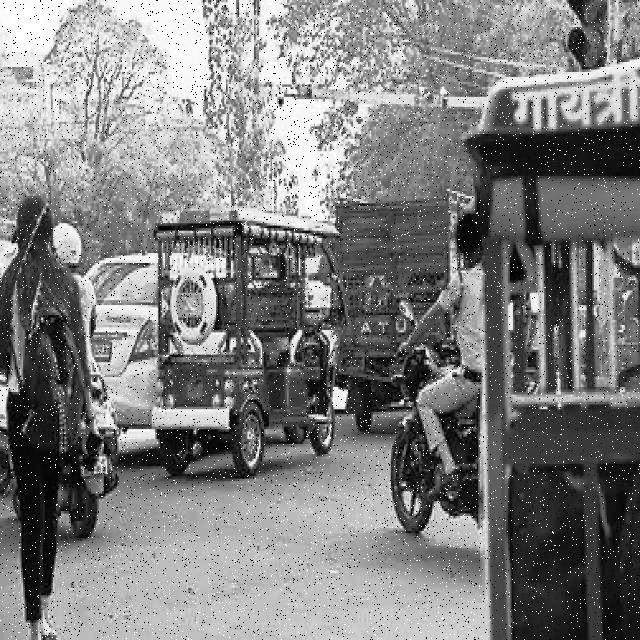Toto: (153, 203, 341, 478)
